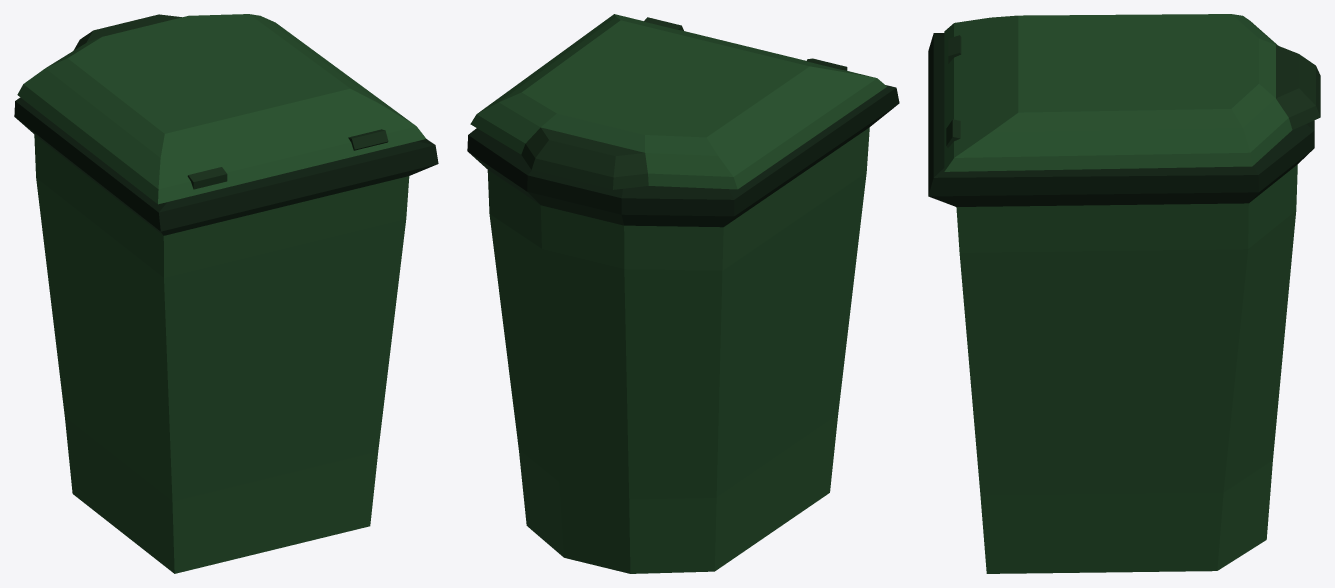
File: TrashBox_1.fbx
The picture shows the model from 3 angles, left to right: view 1: azimuth 30°, elevation 25°; view 2: azimuth 150°, elevation 25°; view 3: azimuth 270°, elevation 25°; orthographic projection. The views are drawn at different scales.
Visible parts, largest first — view 1: TrashBox_1; view 2: TrashBox_1; view 3: TrashBox_1.
Boxes of the visible parts, x1,y1,x2,y2 form: TrashBox_1: [14, 14, 438, 573]; TrashBox_1: [467, 14, 899, 573]; TrashBox_1: [928, 14, 1320, 573].
Size of the model in its own units: 0.8215 by 0.9377 by 1.22.
